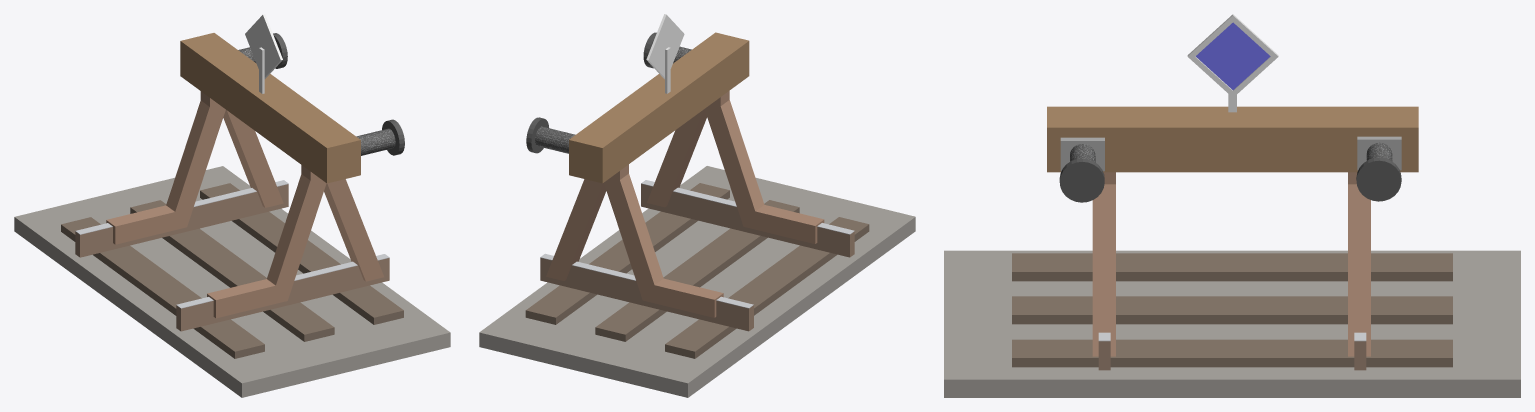
The model's file is zarazedlo_kolej.glb.
3 renders of one model, left to right at view 1: azimuth 30°, elevation 25°; view 2: azimuth 150°, elevation 25°; view 3: azimuth 270°, elevation 25°, orthographic. The views are drawn at different scales.
Visible parts, largest first — view 1: zarazedlo_kolej; view 2: zarazedlo_kolej; view 3: zarazedlo_kolej.
Part boxes in pixels (x1,y1,x2,y2): zarazedlo_kolej: (14,14,450,397); zarazedlo_kolej: (479,14,915,397); zarazedlo_kolej: (944,14,1520,397).
Size of the model in its own units: 1.8 by 2.2 by 3.4.
